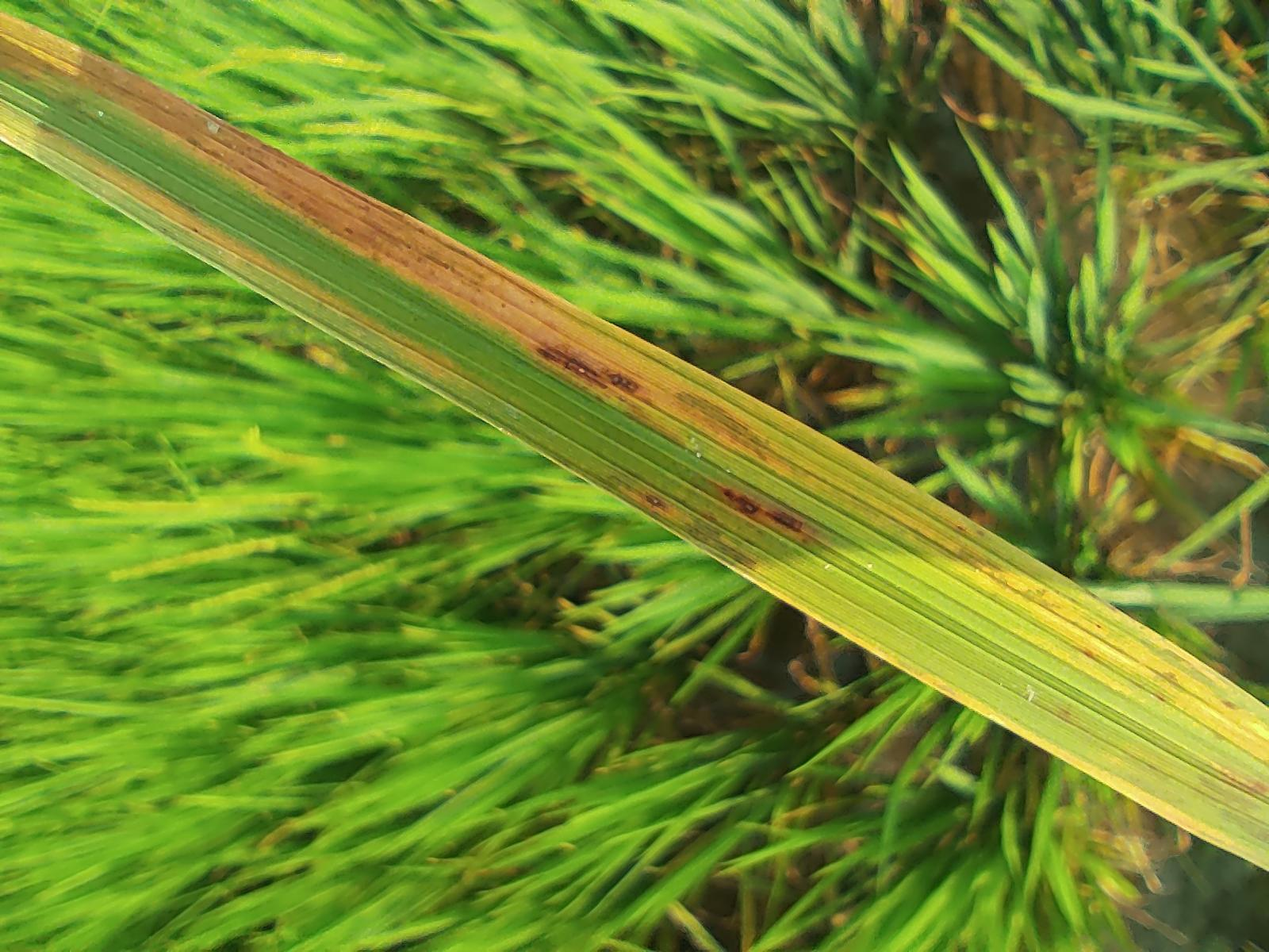LEAF: (113, 0, 1250, 951)
NBS: (749, 401, 806, 458), (581, 536, 622, 571), (742, 452, 774, 482), (558, 574, 587, 603)
